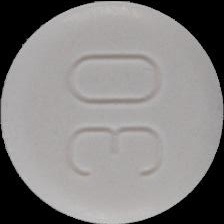61786-565: (0, 0, 224, 224)
